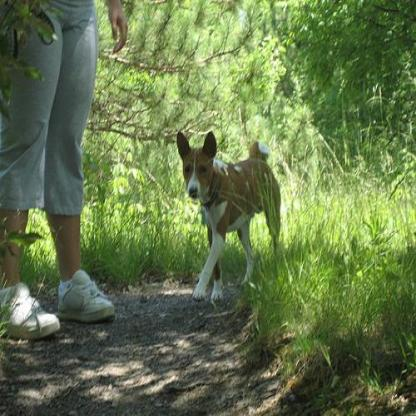basenji: (174, 128, 282, 300)
